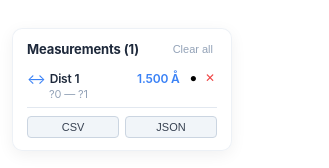
Test case: MeasurementListPanel › commits rename on blur
Double-click the text with test id "measurement-name".
double_click(64, 78)  # box [50, 70, 79, 86]
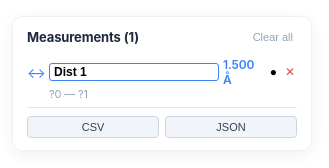
Replace the text in the field with test id "measurement-rename-input" with "Blurred Name" at (134, 72), box [49, 63, 219, 81]
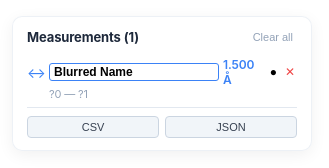
Leave the field with test id "measurement-rename-input", box [49, 63, 219, 81]
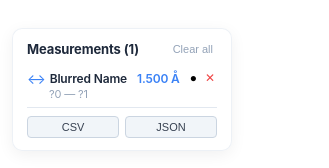
Expected: the text with test id "measurement-name" reads "Blurred Name", [50, 70, 127, 86]
